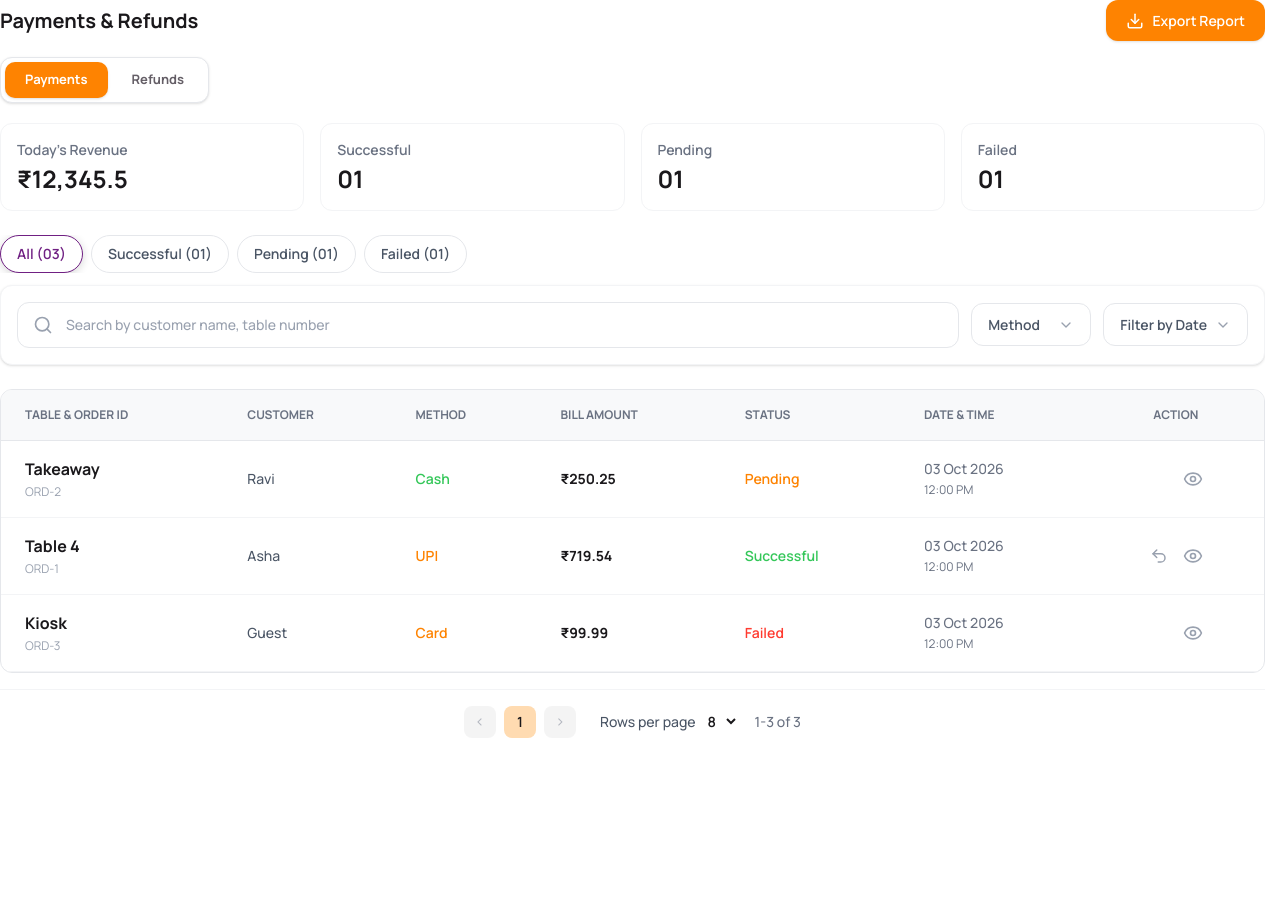
PaymentsDashboard — refund › modal opens on the refundable balance; partial refund posts orderId (Mongo id), amount and reason
Expected: the button "All (03)" is shown, [0,234,83,272]
Click the button titled "Refund" at (1159, 556), box [1142,538,1176,572]
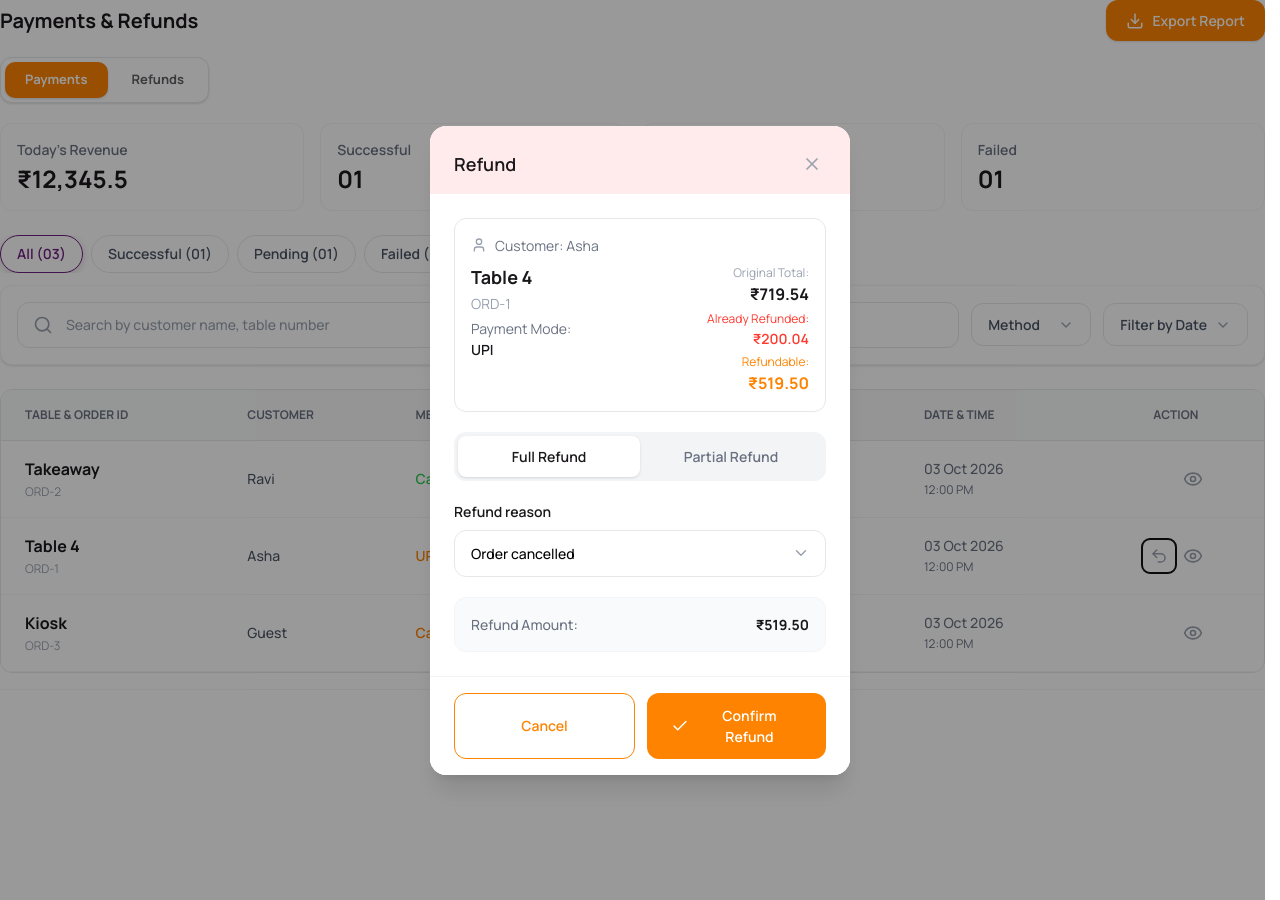
Now the text "₹519.50" below "Refundable:" is shown, box [748,372,809,394]
Now the text "₹200.04" is shown, box [753,328,809,348]
Click the button "Partial Refund" at (731, 456), box [640,436,822,476]
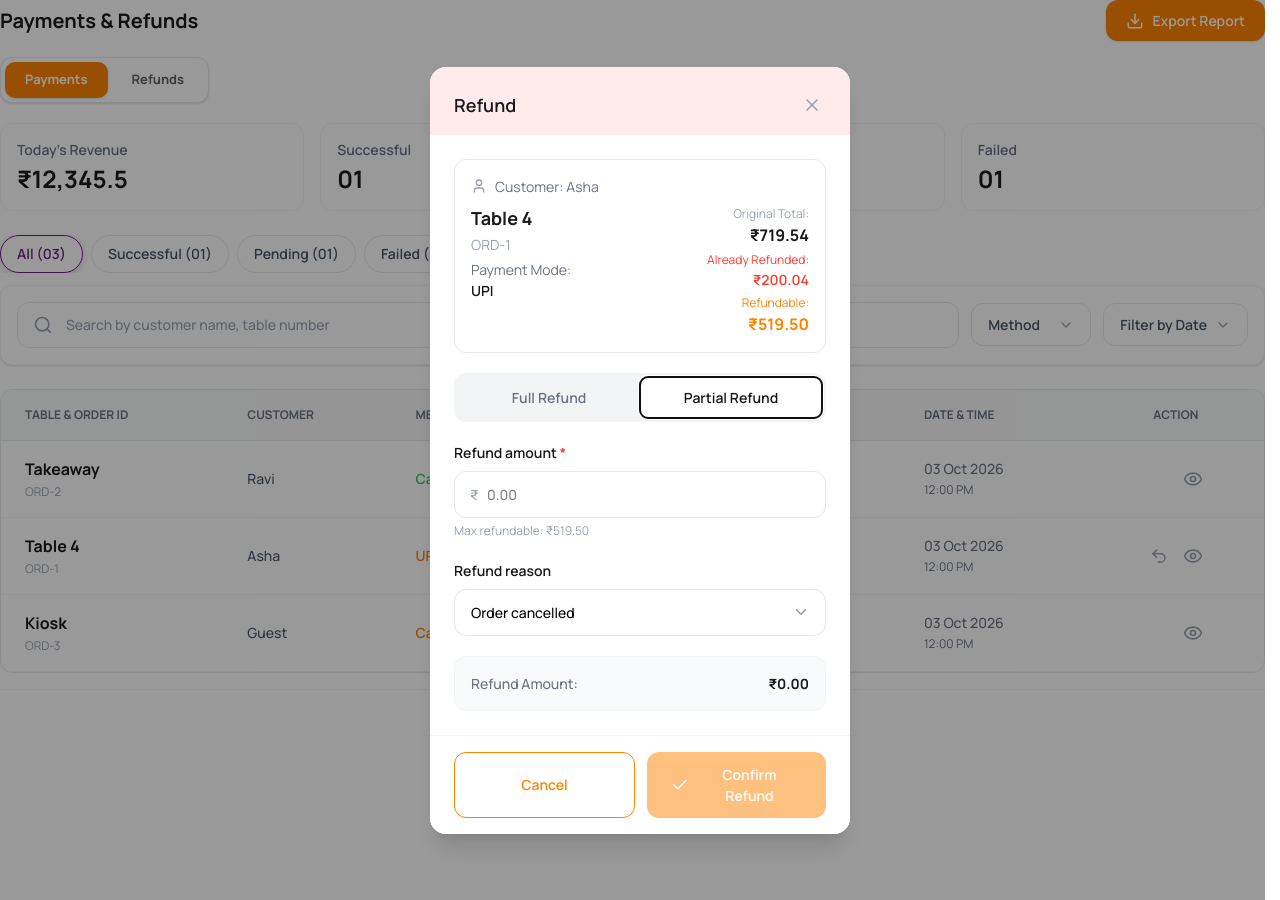
Type "100.25" into the field labelled "Refund amount *" at (640, 494), box [454,470,826,518]
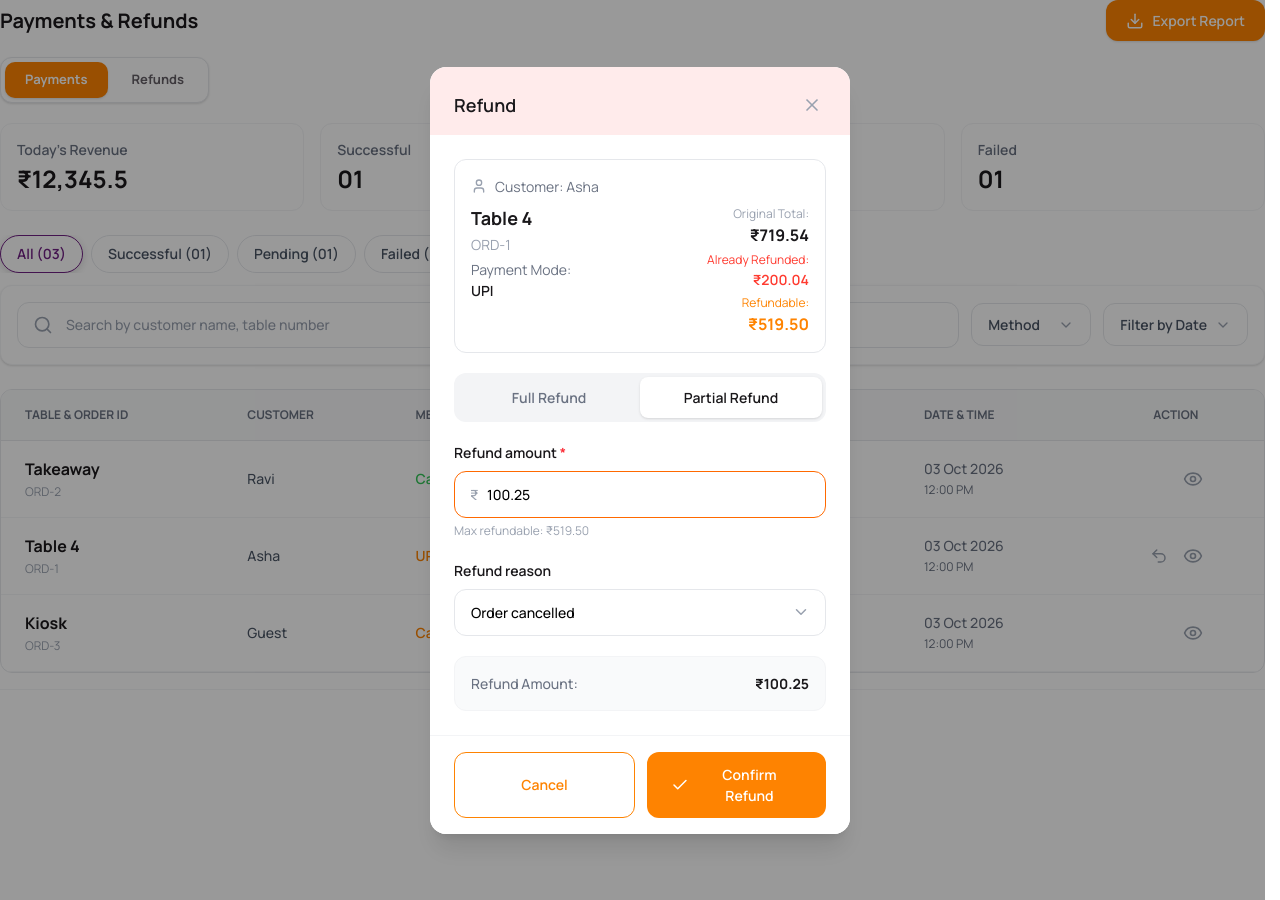
Select "Other" in the dropdown labelled "Refund reason" at (640, 612), box [454,588,826,636]
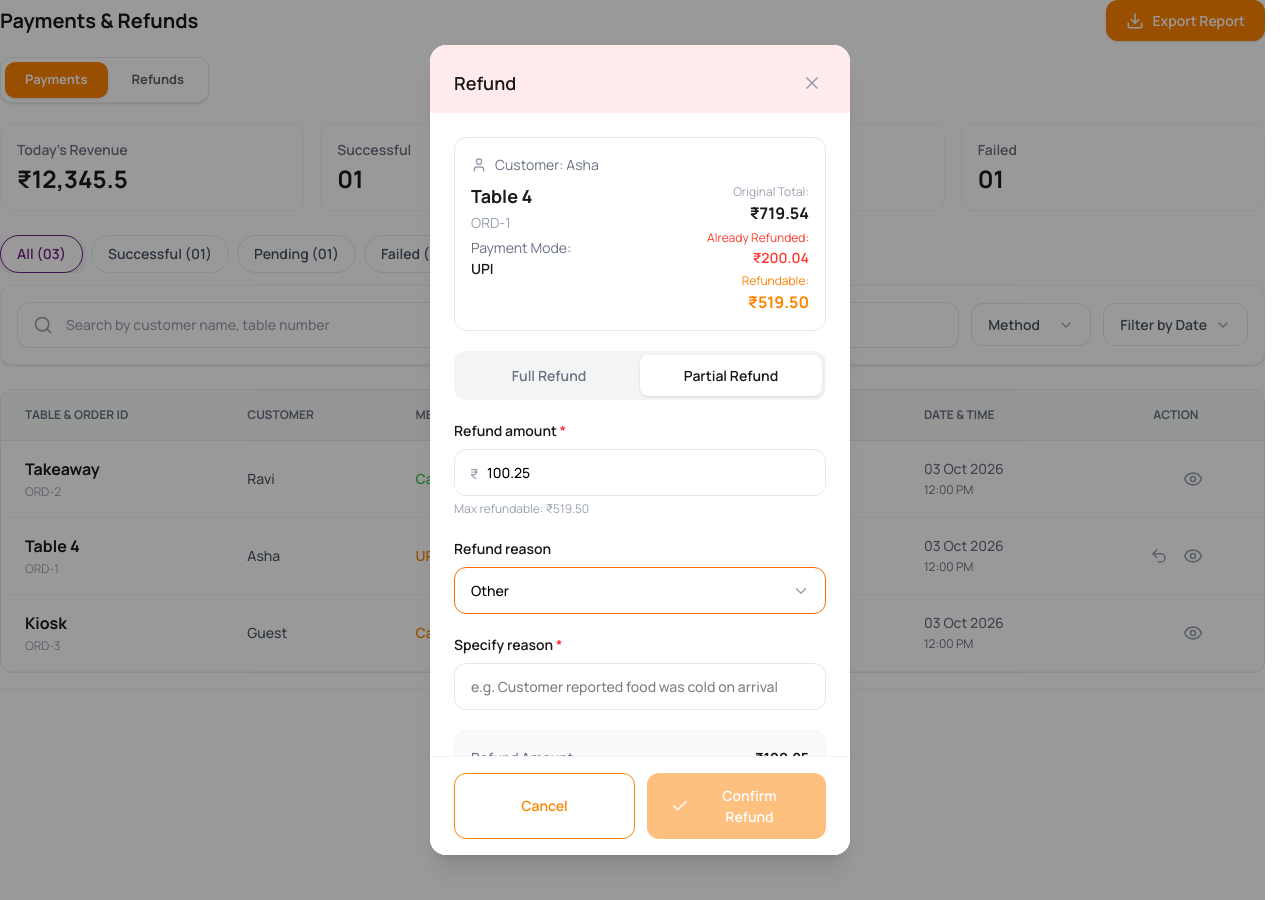
Type "Cold food" into the field labelled "Specify reason *" at (640, 686), box [454,663,826,710]
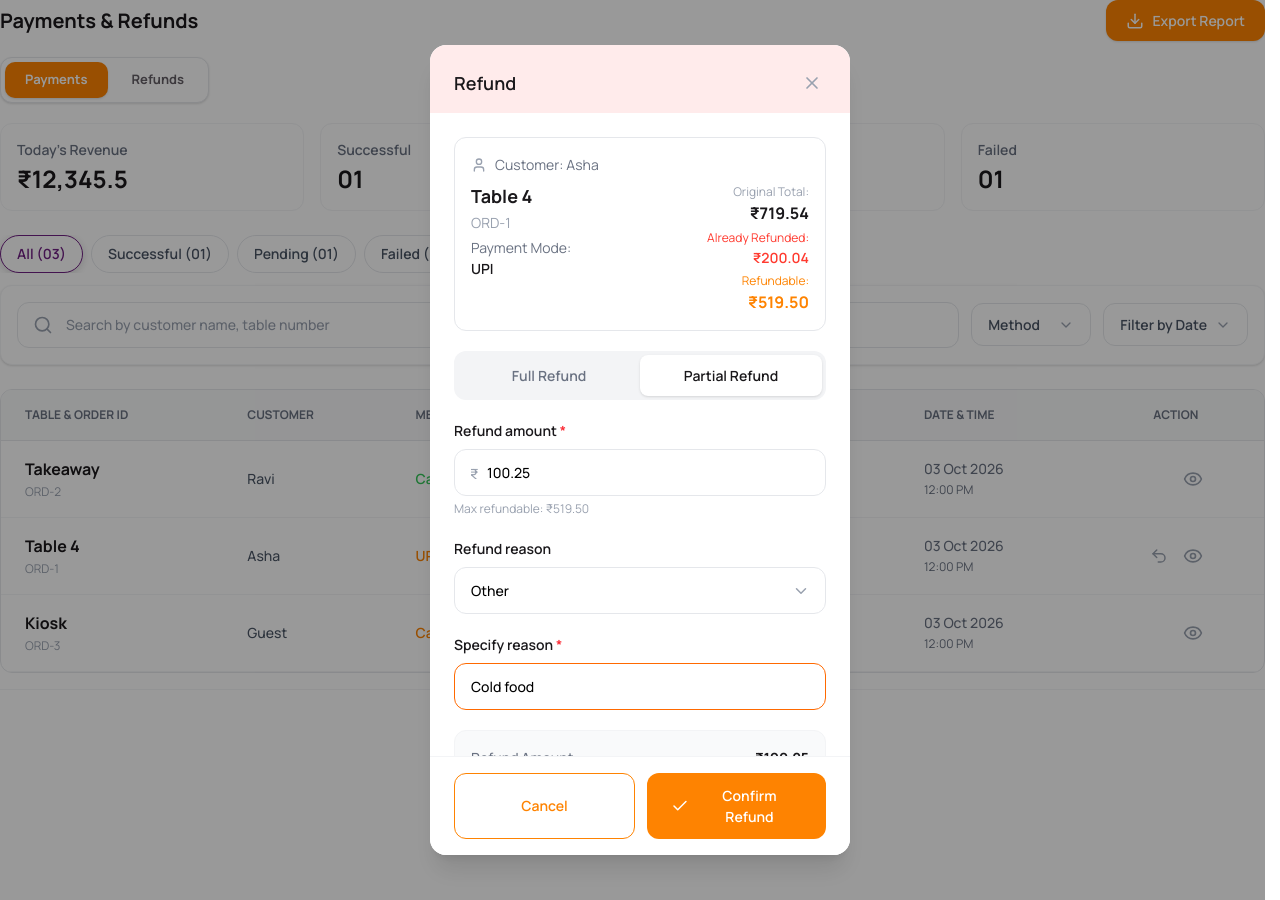
Click the button "Confirm Refund" at (736, 806), box [647,773,826,839]
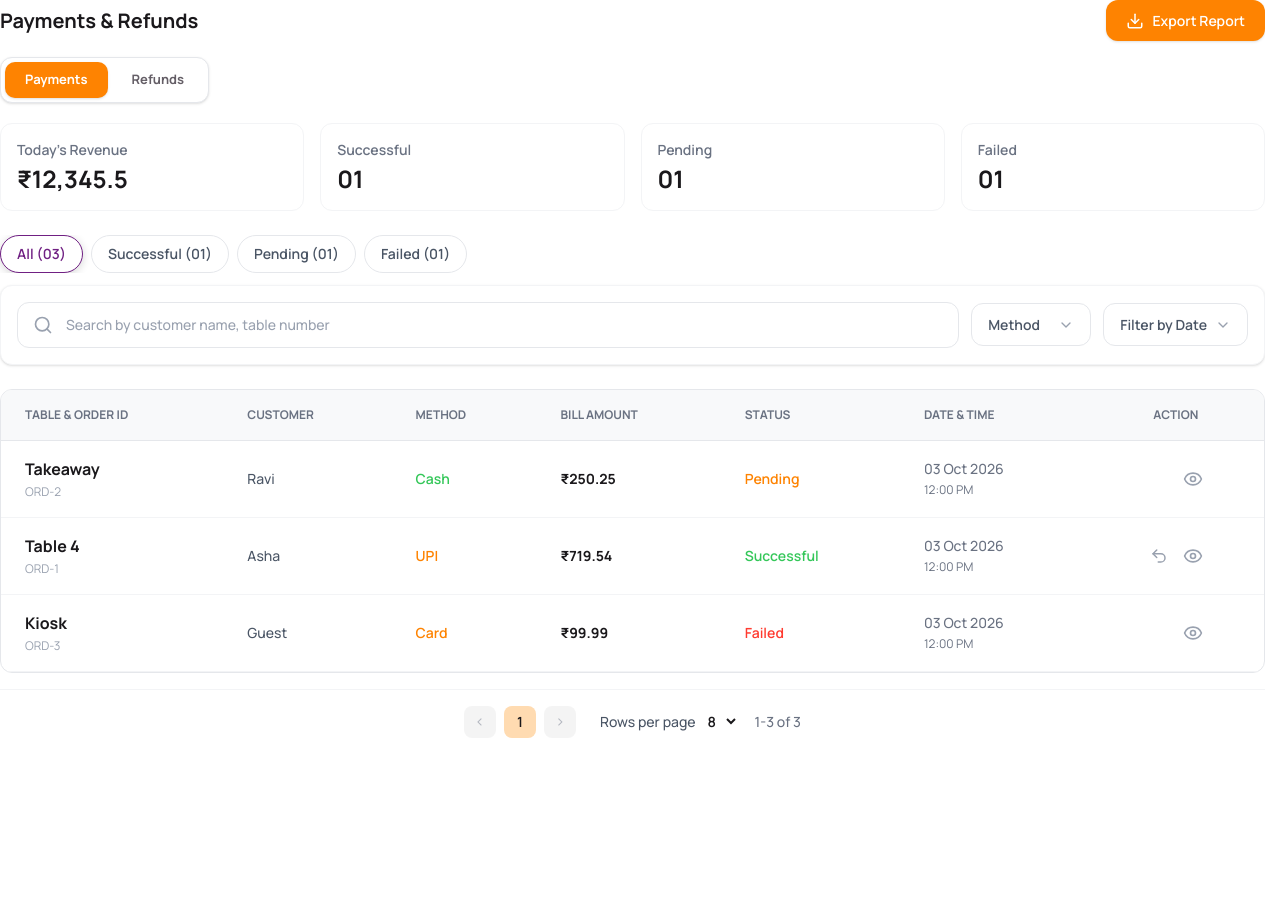
Now the button "Confirm Refund" is gone
